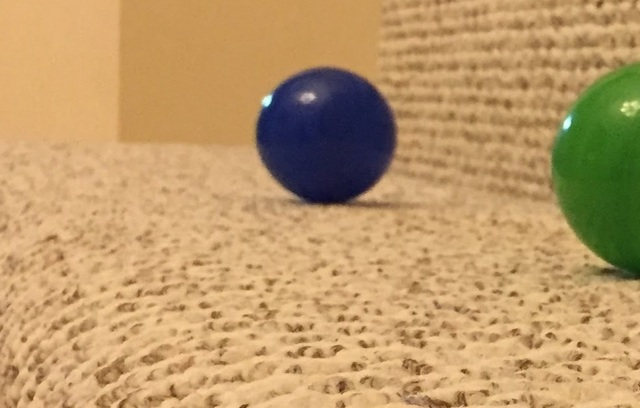Ball: (252, 63, 398, 202)
